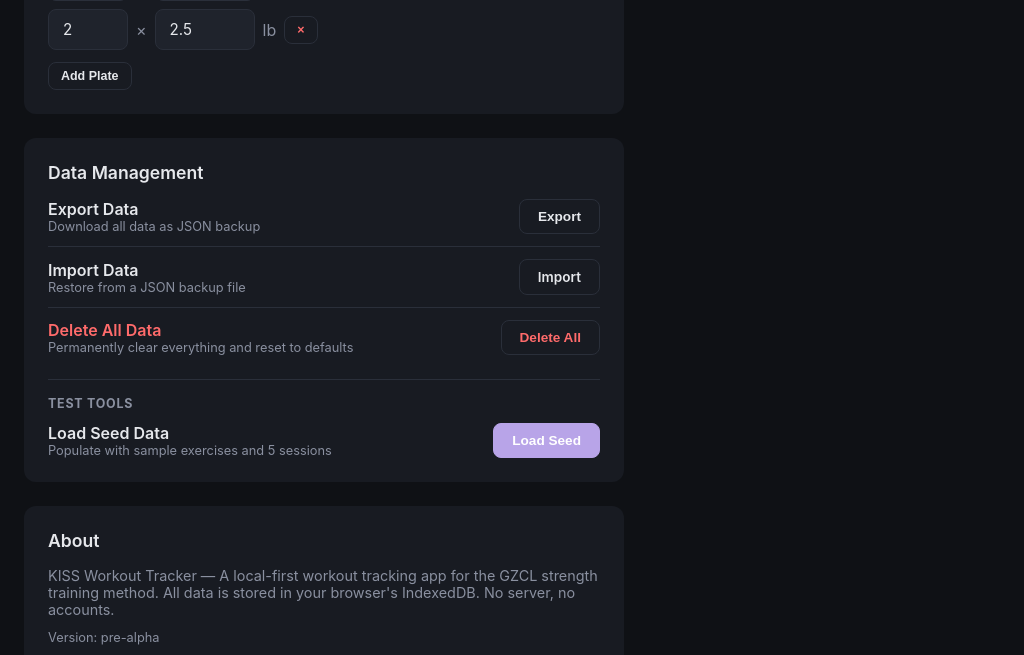
Test: SettingsPage › loads seed data when confirmed
(page scrolled)
Click the button "Load Seed" at (547, 440), box [493,423,600,458]
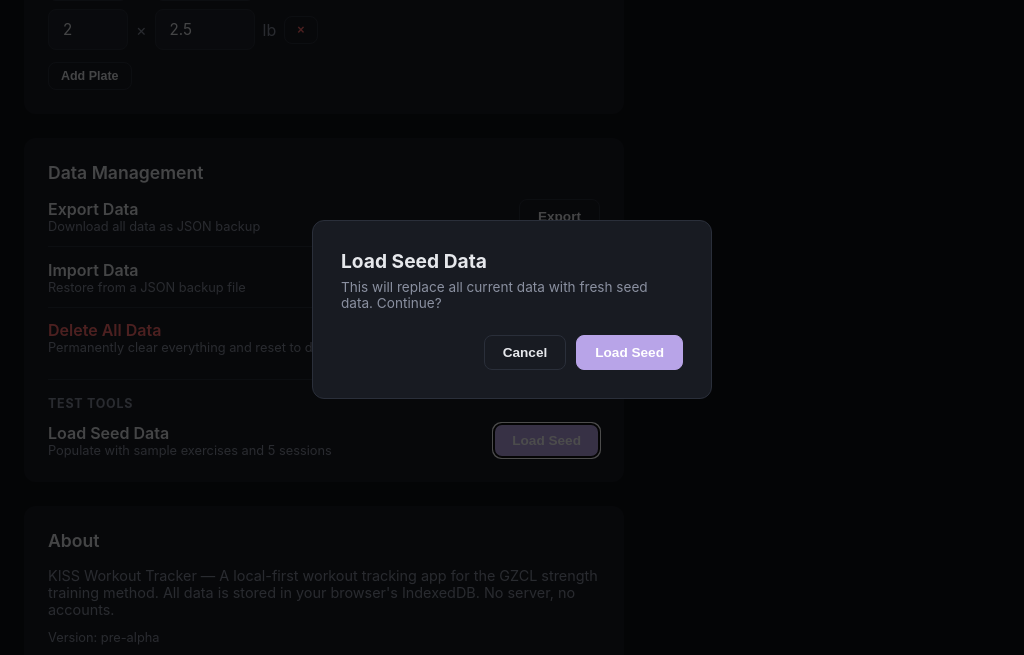
Expected: the text "This will replace all current data with fresh seed data. Continue?" is shown, [341,278,683,310]
Click the button "Load Seed" at (630, 352), box [576,334,683,370]
(page scrolled)
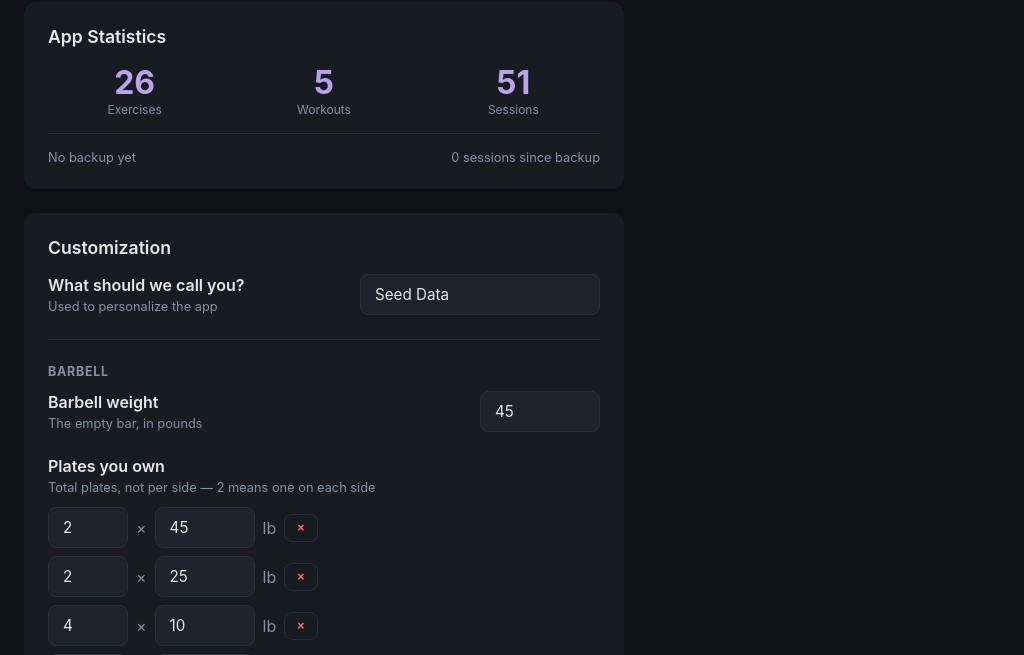
Expected: the text "26" is shown, [114,63,155,102]
